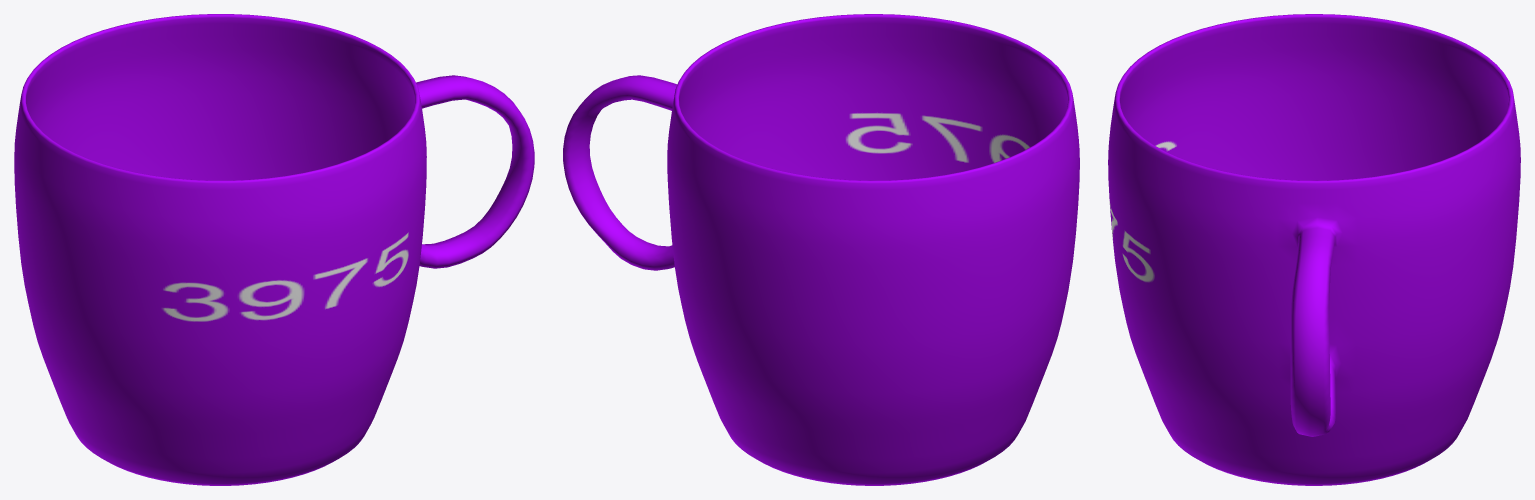
Rendered from cup_of_coffee.obj.
The picture shows the model from 3 angles, left to right: view 1: azimuth 30°, elevation 25°; view 2: azimuth 150°, elevation 25°; view 3: azimuth 270°, elevation 25°; orthographic projection.
Parts seen in each view (by area): view 1: Cylinder; view 2: Cylinder; view 3: Cylinder.
Boxes of the visible parts, left/top/right/bottom form: Cylinder: left=14, top=14, right=534, bottom=485; Cylinder: left=563, top=14, right=1079, bottom=485; Cylinder: left=1108, top=14, right=1520, bottom=485.
Size of the model in its own units: 2.72 by 1.76 by 2.
